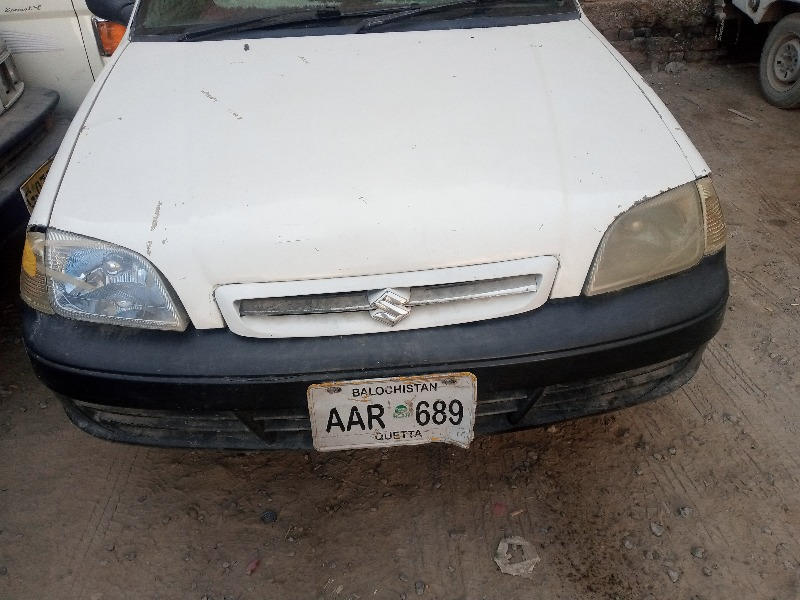License Plate: (304, 368, 485, 459)
